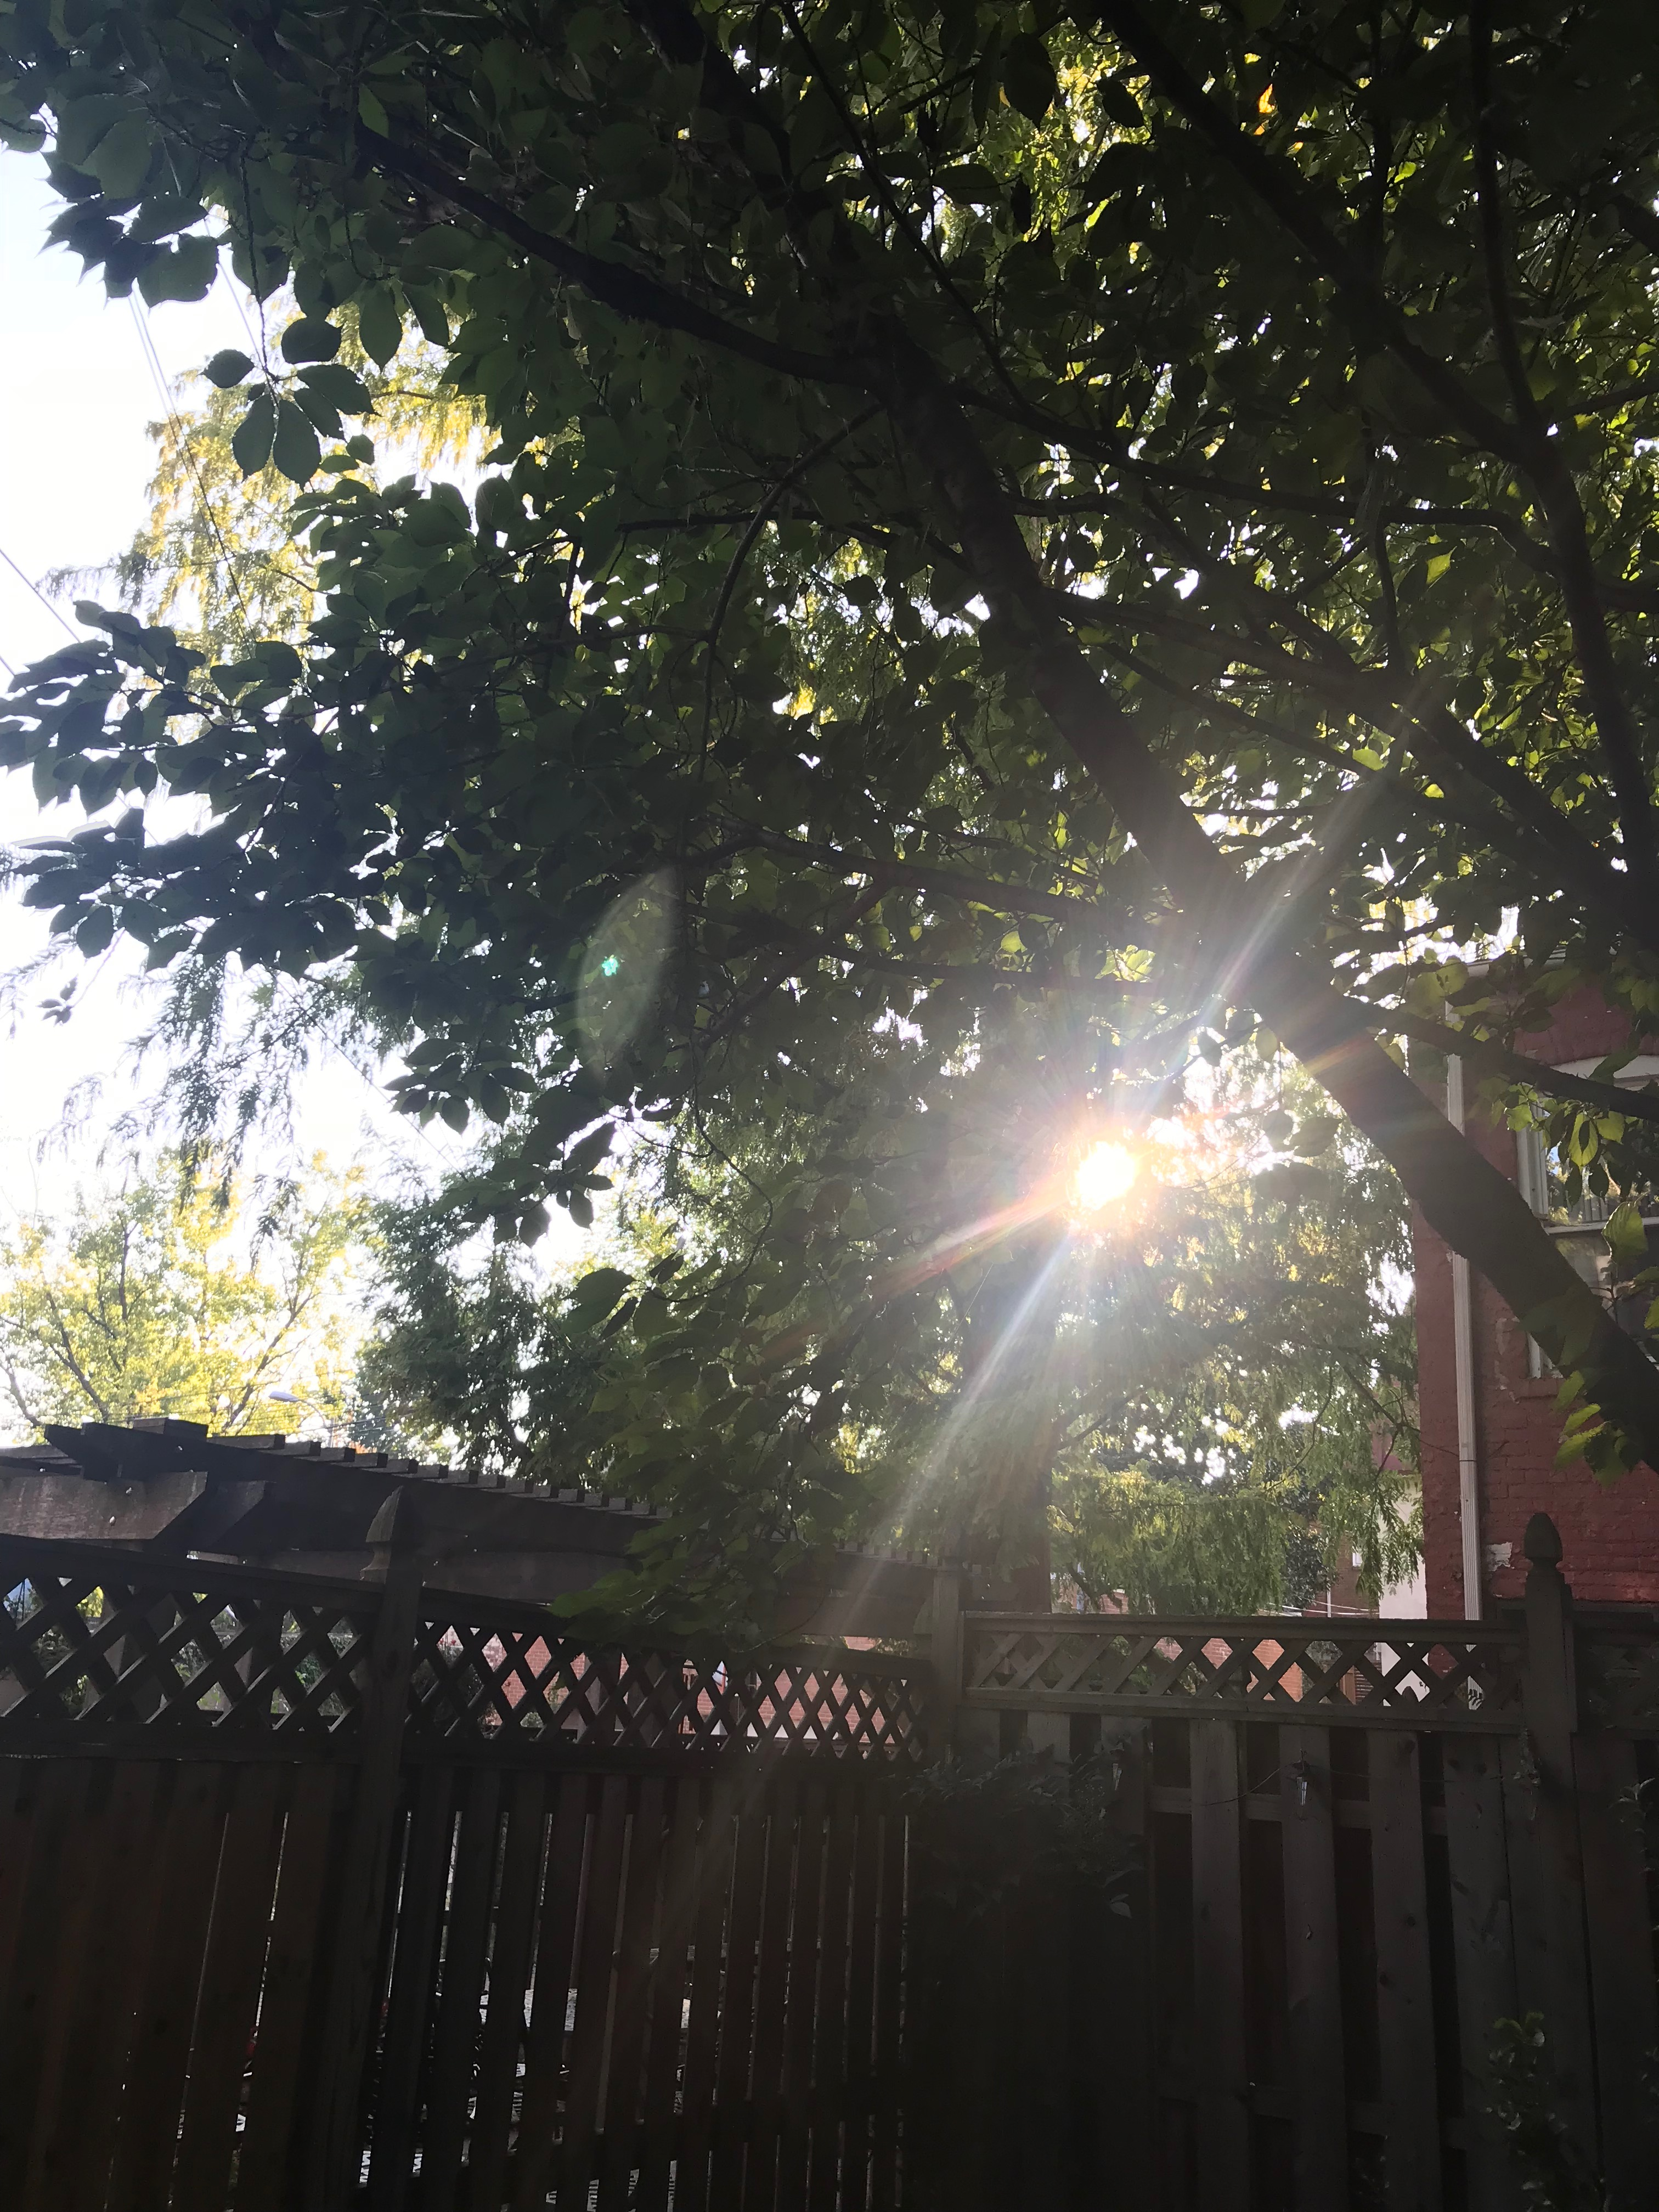flare: (599, 953, 620, 979)
